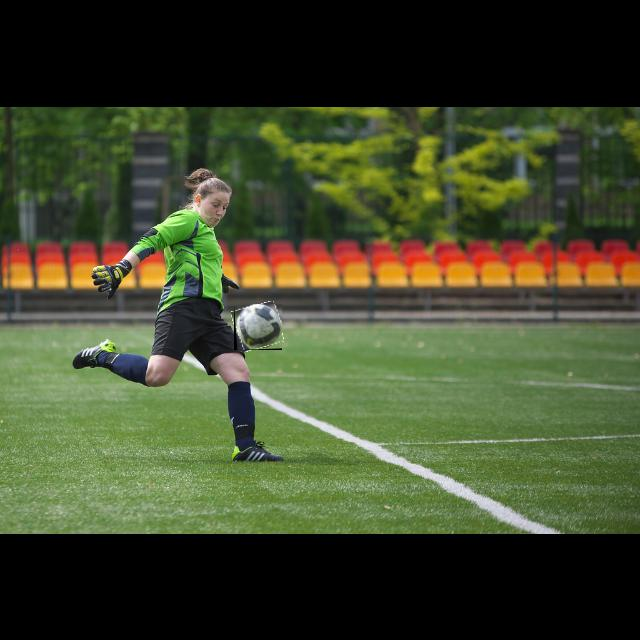Football: (234, 304, 282, 350)
